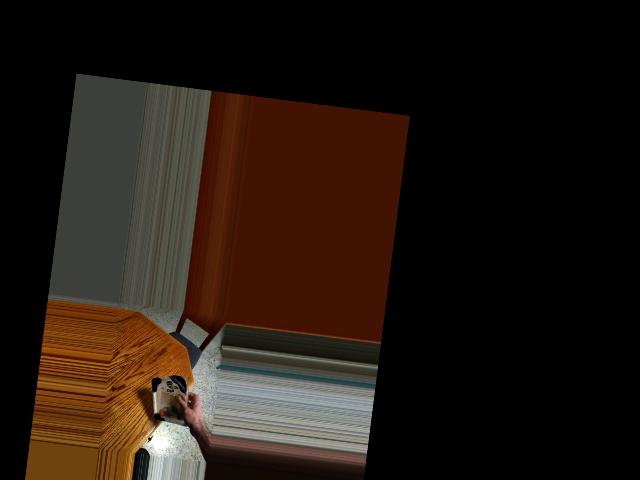cheese: (150, 370, 192, 432)
